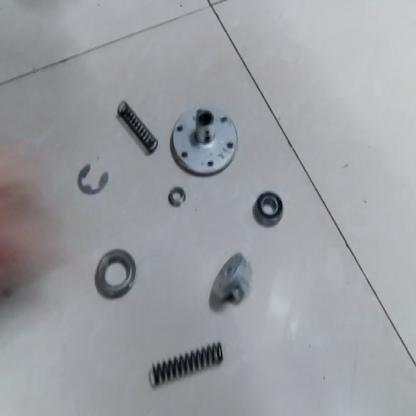FOD: (167, 102, 241, 178), (148, 341, 228, 392), (205, 252, 259, 314), (114, 95, 162, 159), (94, 250, 140, 300), (73, 160, 110, 201), (249, 190, 285, 225), (164, 184, 188, 213)
